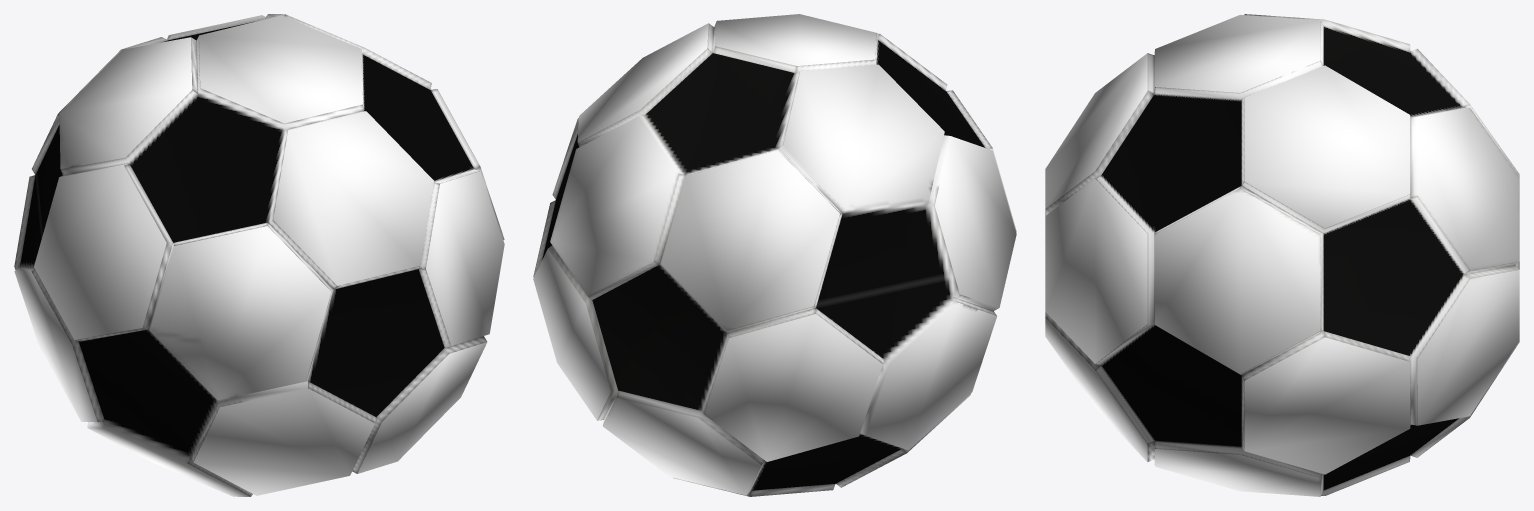
Rendered from SoccerBall.fbx.
The picture shows the model from 3 angles, left to right: view 1: azimuth 30°, elevation 25°; view 2: azimuth 150°, elevation 25°; view 3: azimuth 270°, elevation 25°; orthographic projection.
Parts seen in each view (by area): view 1: soccerBall; view 2: soccerBall; view 3: soccerBall.
Part boxes in pixels (x1,y1,x2,y2): soccerBall: [14, 14, 504, 496]; soccerBall: [533, 14, 1016, 496]; soccerBall: [1045, 14, 1519, 496].
Size of the model in its own units: 21.54 by 21.54 by 21.54.
1 material, 1 textured.
